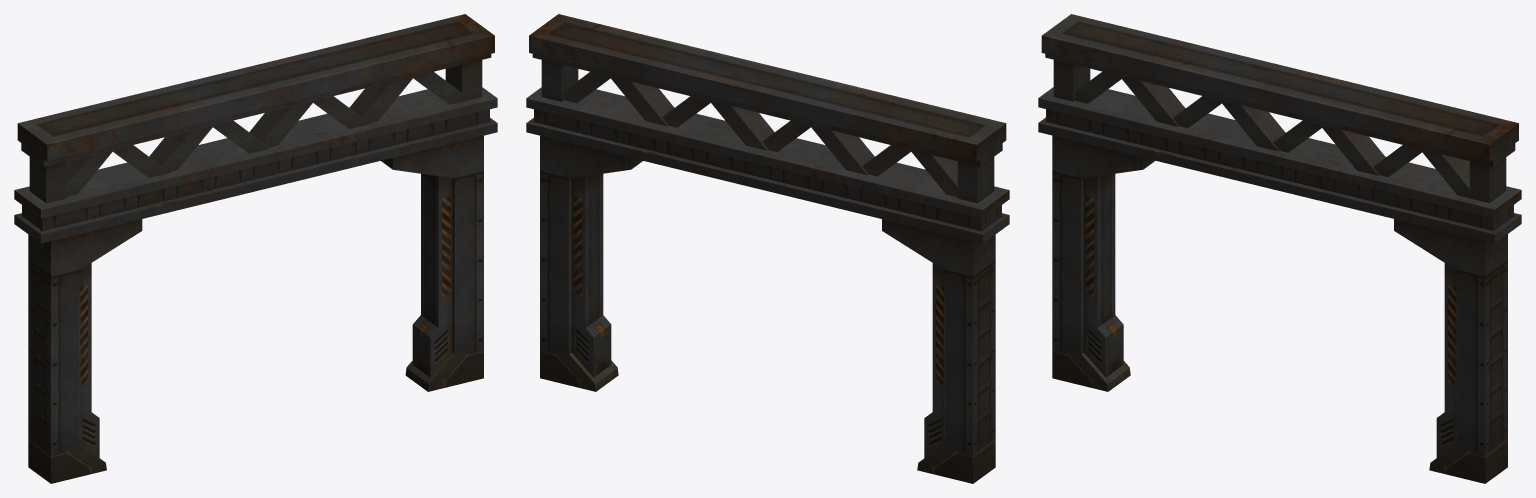
Rendered from Stage-gongchang-tiejia.FBX.
3 views of the same model, side by side, from view 1: azimuth 30°, elevation 25°; view 2: azimuth 150°, elevation 25°; view 3: azimuth 330°, elevation 25° (orthographic).
Visible parts, largest first — view 1: Object43; view 2: Object43; view 3: Object43.
Part boxes in pixels (x1,y1,x2,y2): Object43: (14,14,497,483); Object43: (526,14,1009,483); Object43: (1038,14,1521,483).
Bounding box in the file's own units: 14.55 × 1.63 × 10.46.
